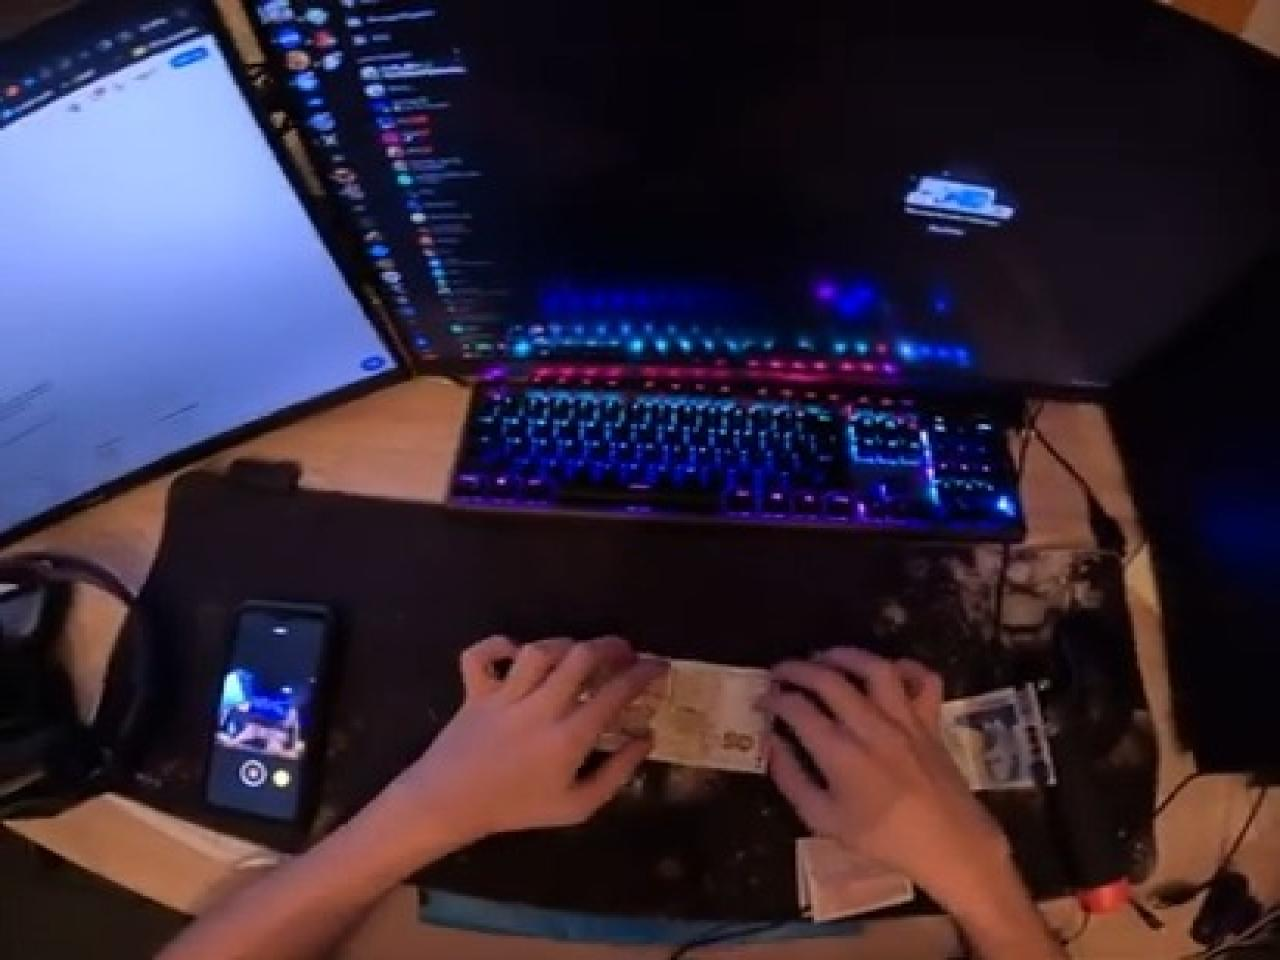50leva: (597, 662, 770, 776)
